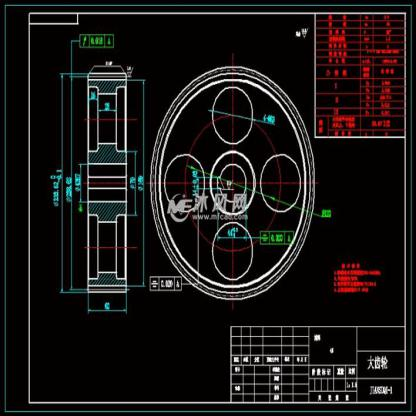FOD: (146, 62, 315, 306)
